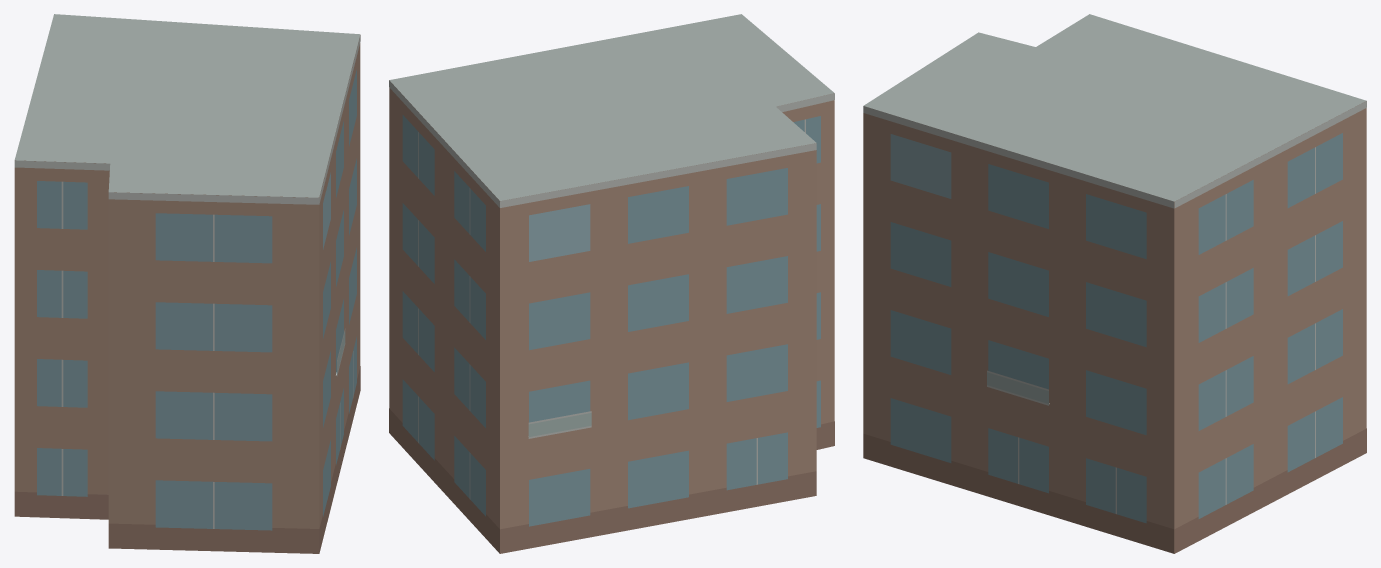
File: survey-upis-32864882.glb
The picture shows the model from 3 angles, left to right: view 1: azimuth 30°, elevation 25°; view 2: azimuth 150°, elevation 25°; view 3: azimuth 270°, elevation 25°; orthographic projection.
Parts seen in each view (by area): view 1: survey-upis-32864882.tmp; view 2: survey-upis-32864882.tmp; view 3: survey-upis-32864882.tmp.
Part boxes in pixels (left/top/right/bottom): survey-upis-32864882.tmp: left=14, top=14, right=360, bottom=553; survey-upis-32864882.tmp: left=389, top=14, right=834, bottom=553; survey-upis-32864882.tmp: left=863, top=14, right=1366, bottom=553.
Size of the model in its own units: 14 by 12.25 by 15.88.
